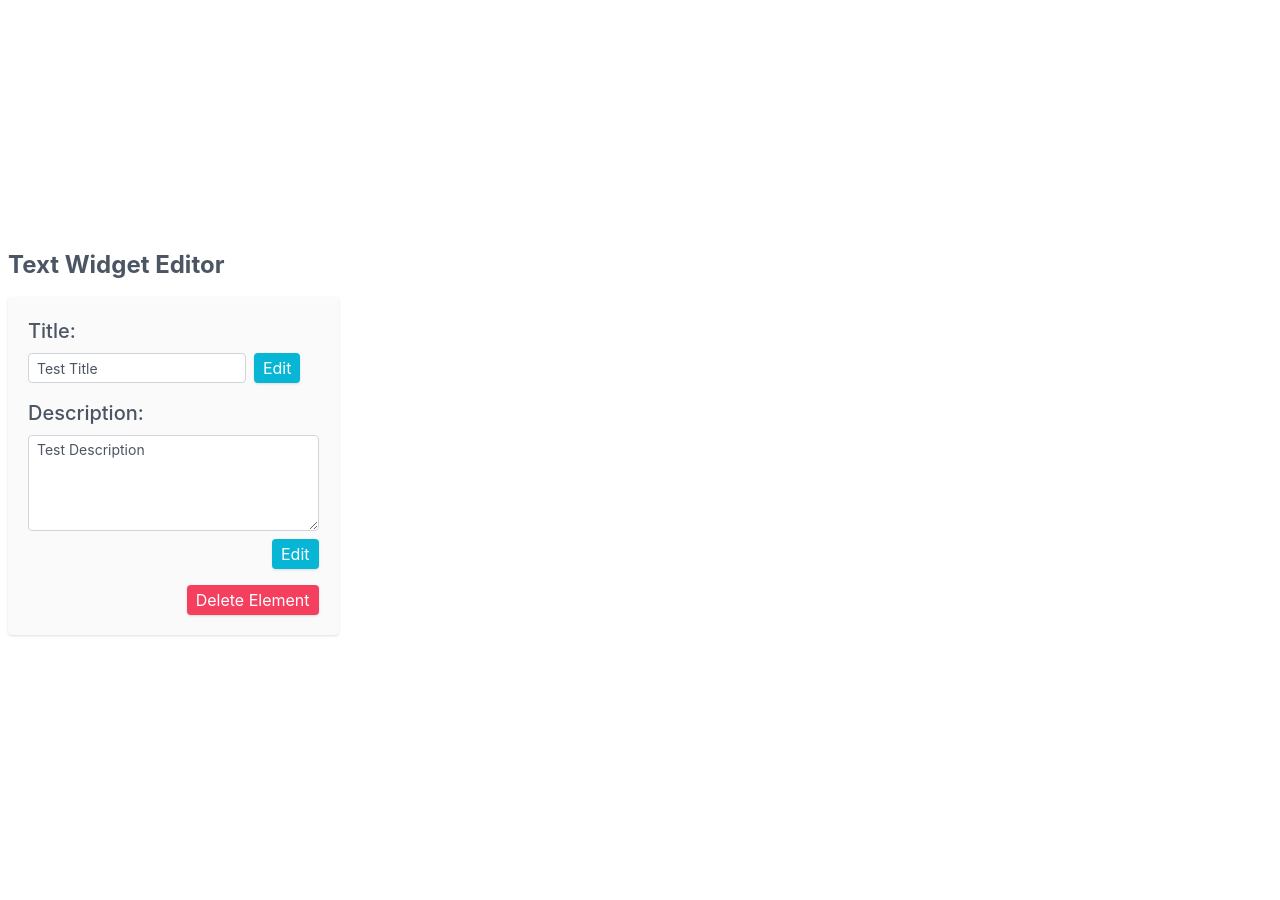
Test: TextEditor component › renders description input and opens description modal
Simulate clicking the "Edit Description" button
Click the button with aria-label "Edit Description" at (295, 554), box [272,539,318,569]
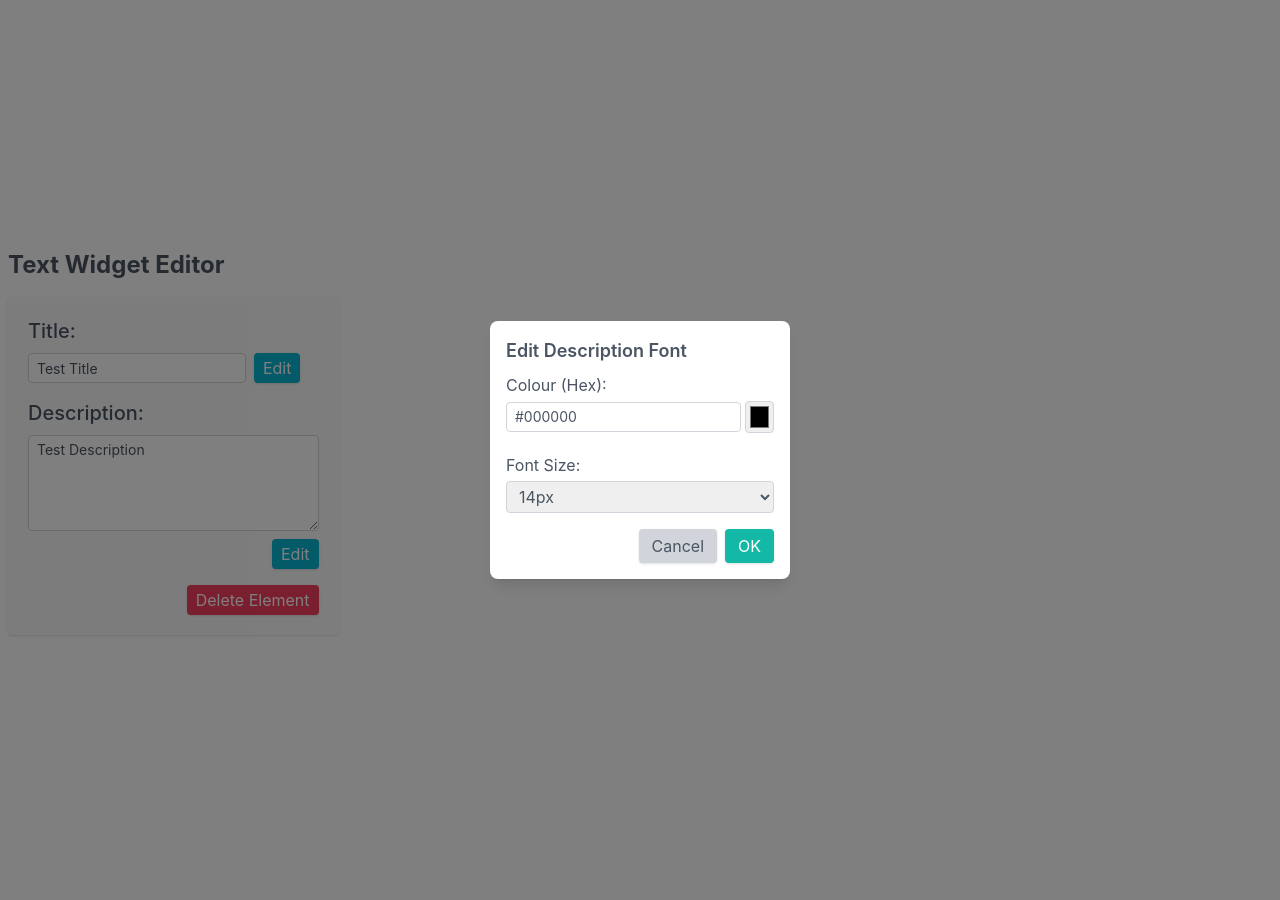
Expected: the heading "Edit Description Font" is shown, [506,340,687,361]
Simulate changing the description font size
Select "18px" in the dropdown labelled "Font Size" at (640, 497), box [506,481,774,513]
Simulate closing the modal
Click the button labelled "Cancel" at (678, 546), box [638,529,717,563]
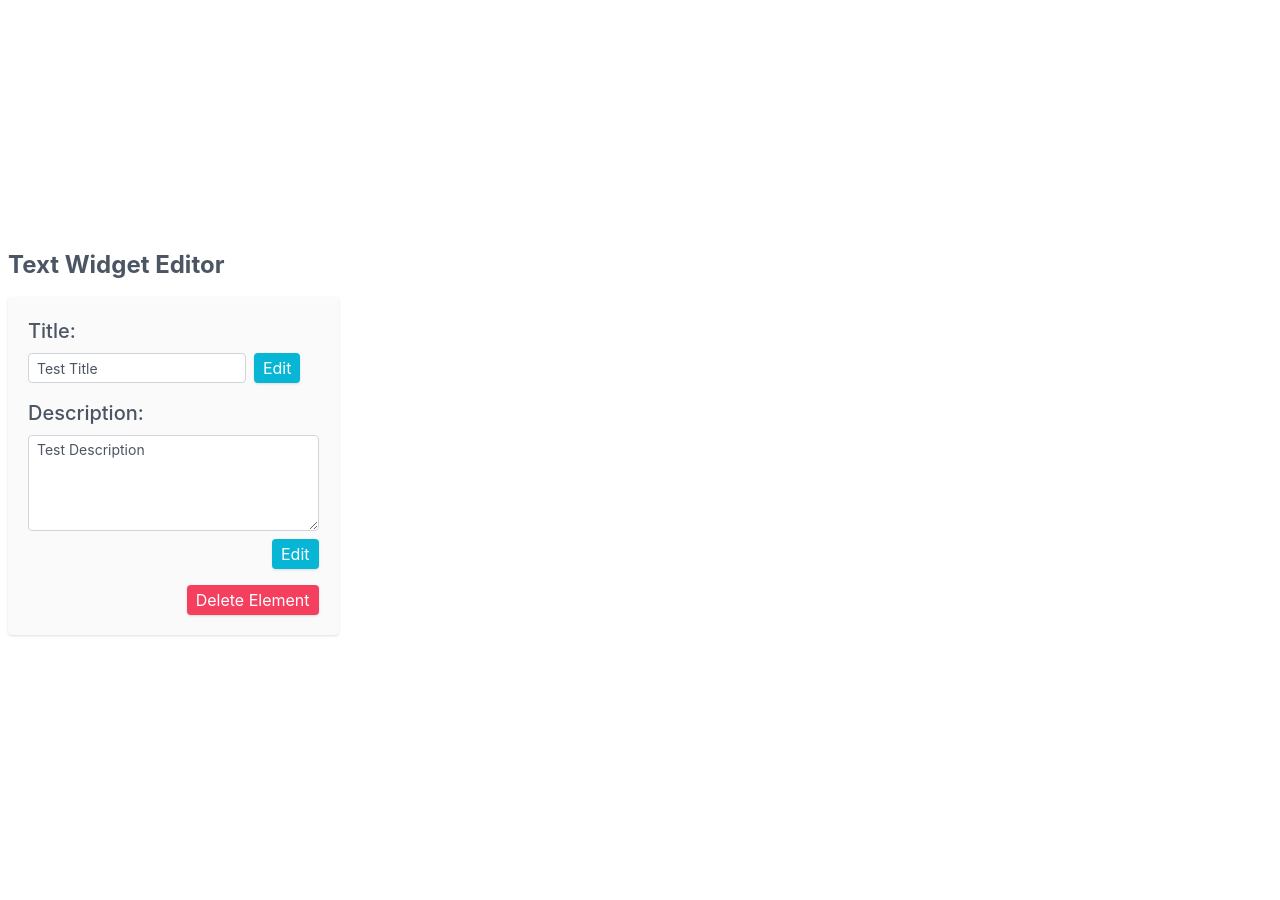
Expected: the heading "Edit Description Font" is gone
